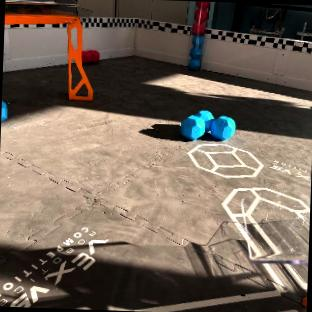V5_BLUE: (181, 109, 236, 141), (1, 101, 7, 121)
V5_RED: (82, 50, 99, 63)
